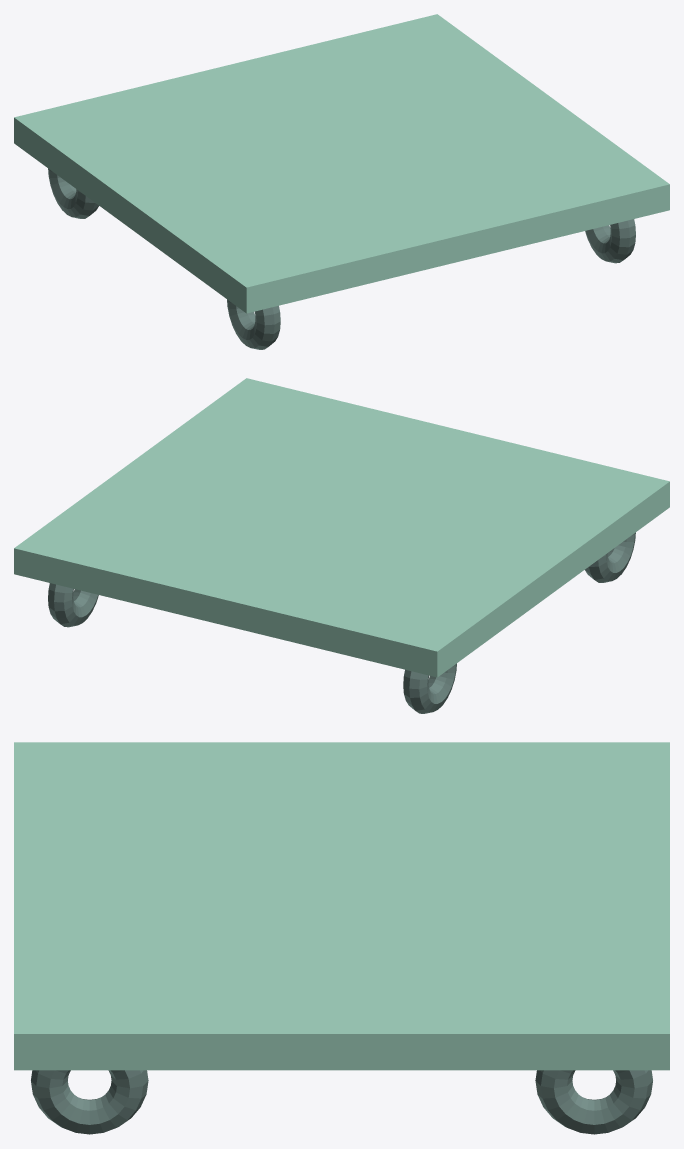
Rendered from bowl-trolley.glb.
The picture shows the model from 3 angles, top to bottom: view 1: azimuth 30°, elevation 25°; view 2: azimuth 150°, elevation 25°; view 3: azimuth 270°, elevation 25°; orthographic projection. The views are drawn at different scales.
Visible parts, largest first — view 1: padded bowl carrier, soft wheel.002, soft wheel, soft wheel.001; view 2: padded bowl carrier, soft wheel.001, soft wheel.003, soft wheel.002; view 3: padded bowl carrier, soft wheel.003, soft wheel.
Boxes of the visible parts, x1=… form: padded bowl carrier: x1=14, y1=14, x2=669, y2=313; soft wheel.002: x1=227, y1=299, x2=280, y2=349; soft wheel: x1=585, y1=219, x2=635, y2=263; soft wheel.001: x1=48, y1=168, x2=98, y2=218; padded bowl carrier: x1=14, y1=378, x2=669, y2=677; soft wheel.001: x1=403, y1=663, x2=456, y2=713; soft wheel.003: x1=48, y1=583, x2=98, y2=627; soft wheel.002: x1=585, y1=532, x2=635, y2=582; padded bowl carrier: x1=14, y1=742, x2=669, y2=1070; soft wheel.003: x1=535, y1=1070, x2=652, y2=1134; soft wheel: x1=31, y1=1070, x2=148, y2=1134.
Size of the model in its own units: 2.05 by 0.405 by 1.95.
